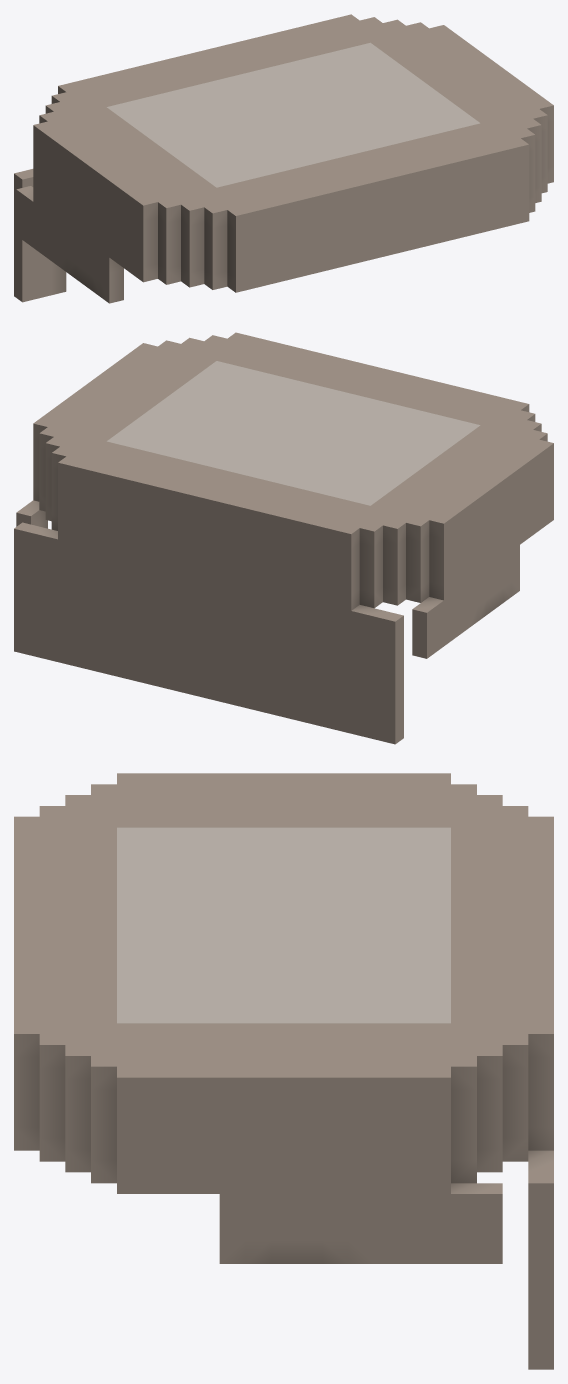
File: hair_m_shaved.glb
3 views of the same model, one above another, from view 1: azimuth 30°, elevation 25°; view 2: azimuth 150°, elevation 25°; view 3: azimuth 270°, elevation 25° (orthographic). The views are drawn at different scales.
Visible parts, largest first — view 1: VoxelVisual; view 2: VoxelVisual; view 3: VoxelVisual.
Boxes of the visible parts, x1=… form: VoxelVisual: x1=14, y1=14, x2=553, y2=303; VoxelVisual: x1=14, y1=332, x2=553, y2=744; VoxelVisual: x1=14, y1=773, x2=553, y2=1369.
Size of what is drawn, in the model's own units: 1.75 by 0.8125 by 1.31.
